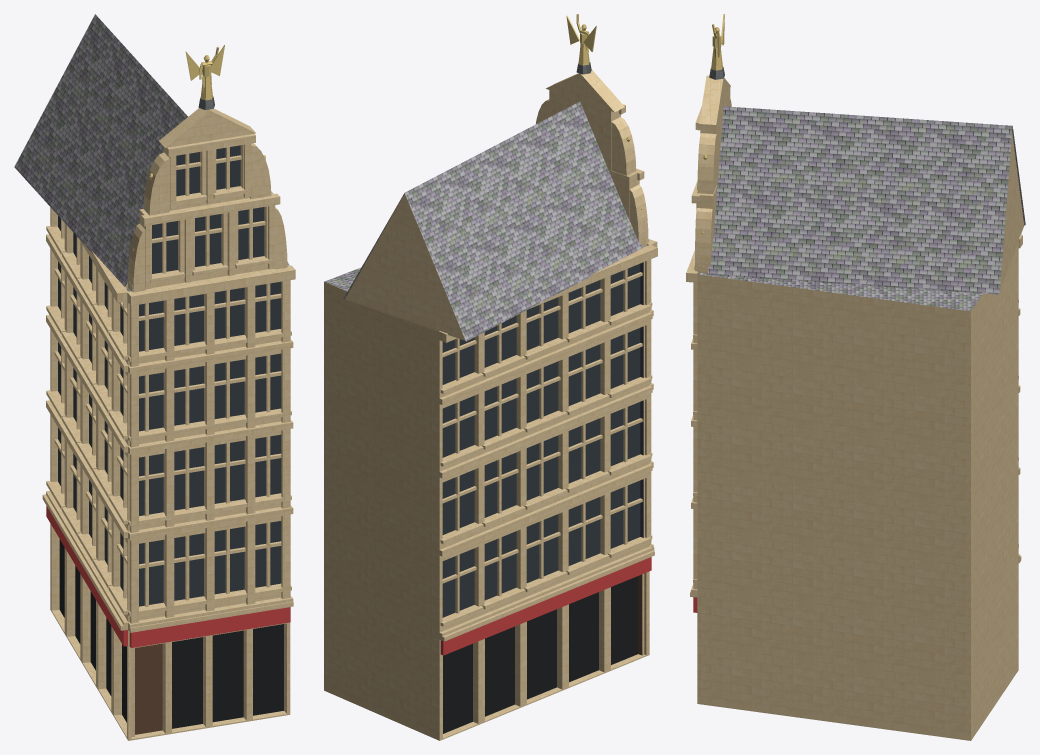
The picture shows the model from 3 angles, left to right: view 1: azimuth 30°, elevation 25°; view 2: azimuth 150°, elevation 25°; view 3: azimuth 270°, elevation 25°; orthographic projection. The views are drawn at different scales.
Visible parts, largest first — view 1: bldg_496929326_landmark; view 2: bldg_496929326_landmark; view 3: bldg_496929326_landmark.
Part boxes in pixels (x1,y1,x2,y2): bldg_496929326_landmark: (14, 14, 295, 740); bldg_496929326_landmark: (324, 14, 657, 740); bldg_496929326_landmark: (686, 14, 1025, 740).
Bounding box in the file's own units: 9.88 × 26.92 × 12.76.
Materials: 8 (3 with a texture image).
